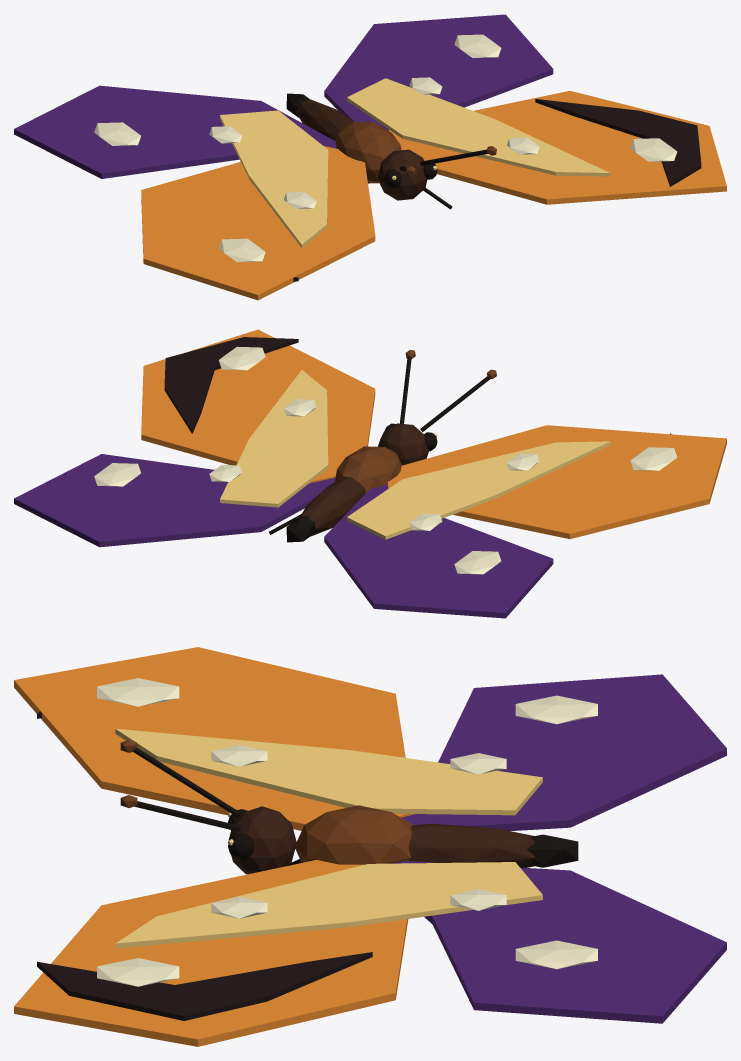
The model's file is Butterfly.glb.
3 renders of one model, top to bottom at view 1: azimuth 30°, elevation 25°; view 2: azimuth 150°, elevation 25°; view 3: azimuth 270°, elevation 25°, orthographic. The views are drawn at different scales.
Parts seen in each view (by area): view 1: Butterfly_WingFore_R, Butterfly_WingFore_L, Butterfly_WingHind_R, Butterfly_WingHind_L, Butterfly_WingBand_L, Butterfly_WingBand_R, Butterfly_WingEdge_L, Butterfly_Thorax, Butterfly_WingSpotOuter_L, Butterfly_WingSpotOuter_R, Butterfly_Head, Butterfly_Abdomen (+2 smaller); view 2: Butterfly_WingFore_R, Butterfly_WingHind_L, Butterfly_WingHind_R, Butterfly_WingFore_L, Butterfly_WingBand_R, Butterfly_WingBand_L, Butterfly_WingEdge_L, Butterfly_Thorax, Butterfly_Abdomen, Butterfly_WingSpotOuter_R, Butterfly_WingSpotOuter_L, Butterfly_Head (+3 smaller); view 3: Butterfly_WingFore_R, Butterfly_WingFore_L, Butterfly_WingHind_L, Butterfly_WingHind_R, Butterfly_WingBand_R, Butterfly_WingBand_L, Butterfly_WingEdge_L, Butterfly_Thorax, Butterfly_Abdomen, Butterfly_WingSpotOuter_R, Butterfly_WingSpotOuter_L, Butterfly_Head (+5 smaller).
Boxes of the visible parts, x1=… form: Butterfly_WingFore_R: x1=141, y1=146, x2=375, y2=300; Butterfly_WingFore_L: x1=389, y1=90, x2=726, y2=204; Butterfly_WingHind_R: x1=14, y1=85, x2=336, y2=178; Butterfly_WingHind_L: x1=324, y1=14, x2=553, y2=130; Butterfly_WingBand_L: x1=347, y1=78, x2=610, y2=176; Butterfly_WingBand_R: x1=220, y1=110, x2=328, y2=247; Butterfly_WingEdge_L: x1=535, y1=99, x2=701, y2=186; Butterfly_Thorax: x1=335, y1=121, x2=401, y2=183; Butterfly_WingSpotOuter_L: x1=454, y1=34, x2=677, y2=161; Butterfly_WingSpotOuter_R: x1=94, y1=122, x2=265, y2=262; Butterfly_Head: x1=378, y1=149, x2=427, y2=200; Butterfly_Abdomen: x1=296, y1=99, x2=354, y2=140; Butterfly_WingFore_R: x1=388, y1=425, x2=726, y2=539; Butterfly_WingHind_L: x1=14, y1=454, x2=335, y2=547; Butterfly_WingHind_R: x1=324, y1=484, x2=553, y2=618; Butterfly_WingFore_L: x1=141, y1=329, x2=375, y2=483; Butterfly_WingBand_R: x1=347, y1=441, x2=610, y2=539; Butterfly_WingBand_L: x1=220, y1=370, x2=328, y2=507; Butterfly_WingEdge_L: x1=164, y1=337, x2=298, y2=433; Butterfly_Thorax: x1=335, y1=446, x2=402, y2=492; Butterfly_Abdomen: x1=300, y1=476, x2=365, y2=536; Butterfly_WingSpotOuter_R: x1=454, y1=447, x2=677, y2=574; Butterfly_WingSpotOuter_L: x1=94, y1=346, x2=265, y2=486; Butterfly_Head: x1=378, y1=423, x2=428, y2=465; Butterfly_WingFore_R: x1=14, y1=647, x2=413, y2=830; Butterfly_WingFore_L: x1=14, y1=860, x2=408, y2=1046; Butterfly_WingHind_L: x1=393, y1=861, x2=726, y2=1023; Butterfly_WingHind_R: x1=401, y1=674, x2=726, y2=830; Butterfly_WingBand_R: x1=115, y1=728, x2=542, y2=815; Butterfly_WingBand_L: x1=115, y1=862, x2=542, y2=948; Butterfly_WingEdge_L: x1=37, y1=952, x2=372, y2=1020; Butterfly_Thorax: x1=295, y1=805, x2=412, y2=864; Butterfly_Abdomen: x1=408, y1=823, x2=536, y2=867; Butterfly_WingSpotOuter_R: x1=97, y1=678, x2=597, y2=724; Butterfly_WingSpotOuter_L: x1=97, y1=940, x2=597, y2=986; Butterfly_Head: x1=228, y1=806, x2=296, y2=874.
Size of the model in its own units: 1.98 by 0.3453 by 1.55.
